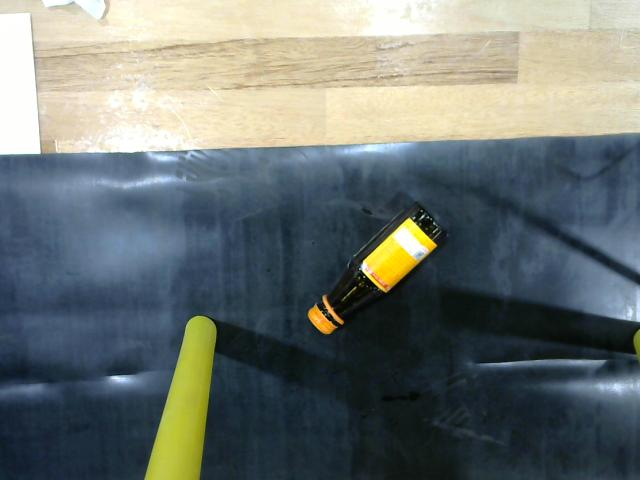glass: (300, 192, 464, 346)
